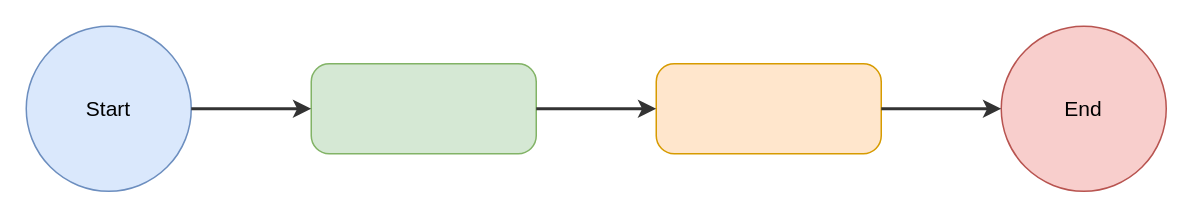
Image size: 1193x218. Some labels were removed from this diagram. The centre of each missing label's shape, as x and y in pixels:
"Process A" belongs at (x=423, y=108).
"Process B" belongs at (x=768, y=108).
